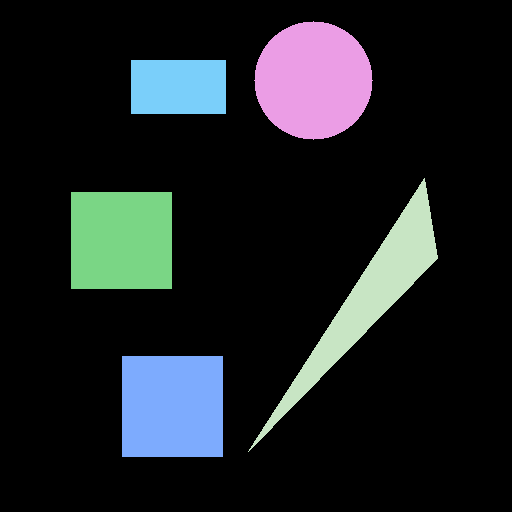circle: (254, 21, 372, 139)
rectangle: (131, 60, 225, 113)
square: (122, 356, 222, 456), (71, 192, 171, 288)
triangle: (248, 178, 437, 451)
